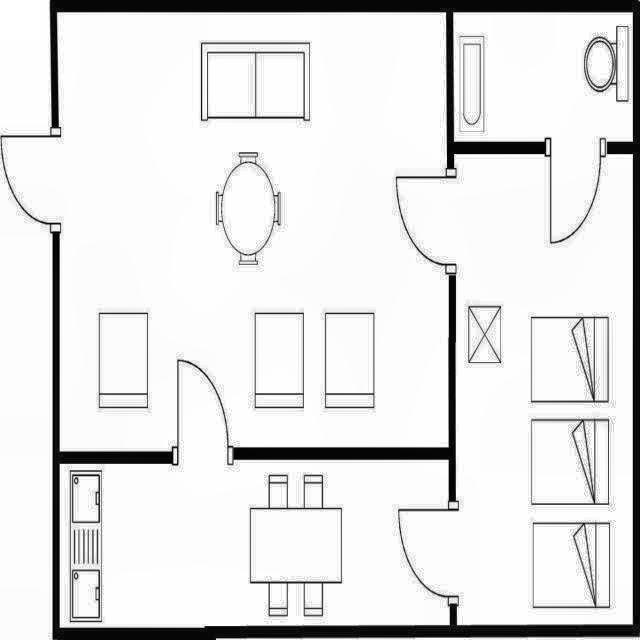room: (57, 10, 449, 452), (456, 154, 633, 625), (58, 458, 450, 629), (453, 12, 633, 142)
